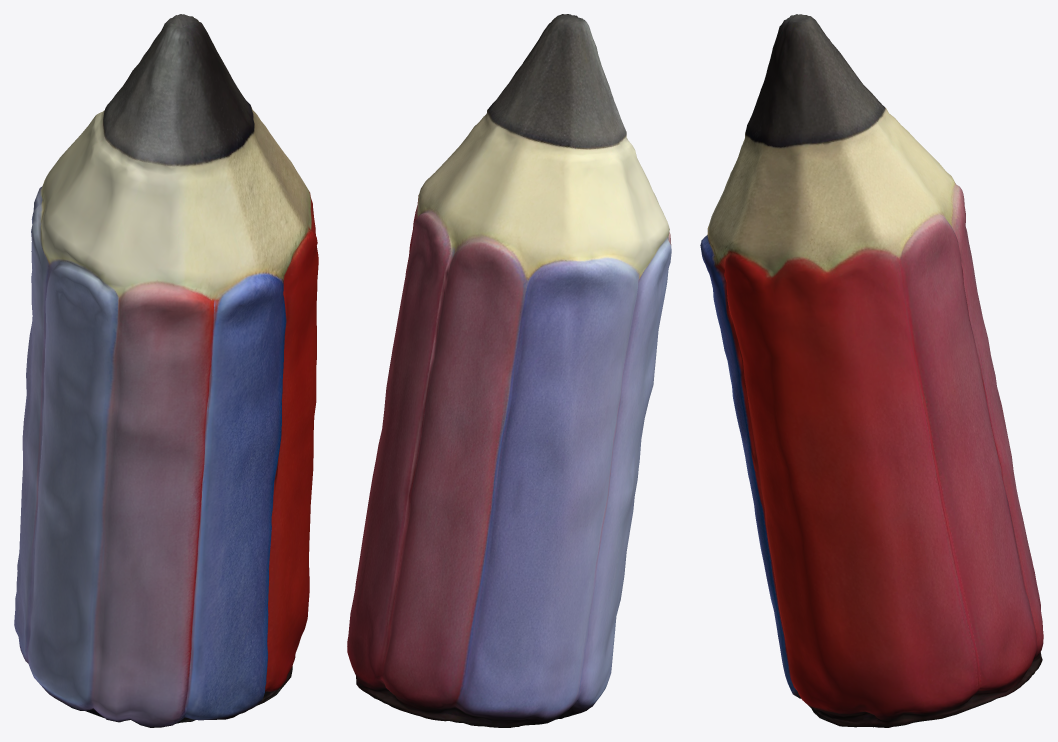
File: Stack 6A - Pencil.glb
The picture shows the model from 3 angles, left to right: view 1: azimuth 30°, elevation 25°; view 2: azimuth 150°, elevation 25°; view 3: azimuth 270°, elevation 25°; orthographic projection. The views are drawn at different scales.
Visible parts, largest first — view 1: Pencil; view 2: Pencil; view 3: Pencil.
Part boxes in pixels (left/top/right/bottom): Pencil: left=14, top=14, right=318, bottom=727; Pencil: left=347, top=14, right=671, bottom=727; Pencil: left=700, top=14, right=1043, bottom=727.
Size of the model in its own units: 0.4072 by 1 by 0.473.
1 material, 1 textured.
